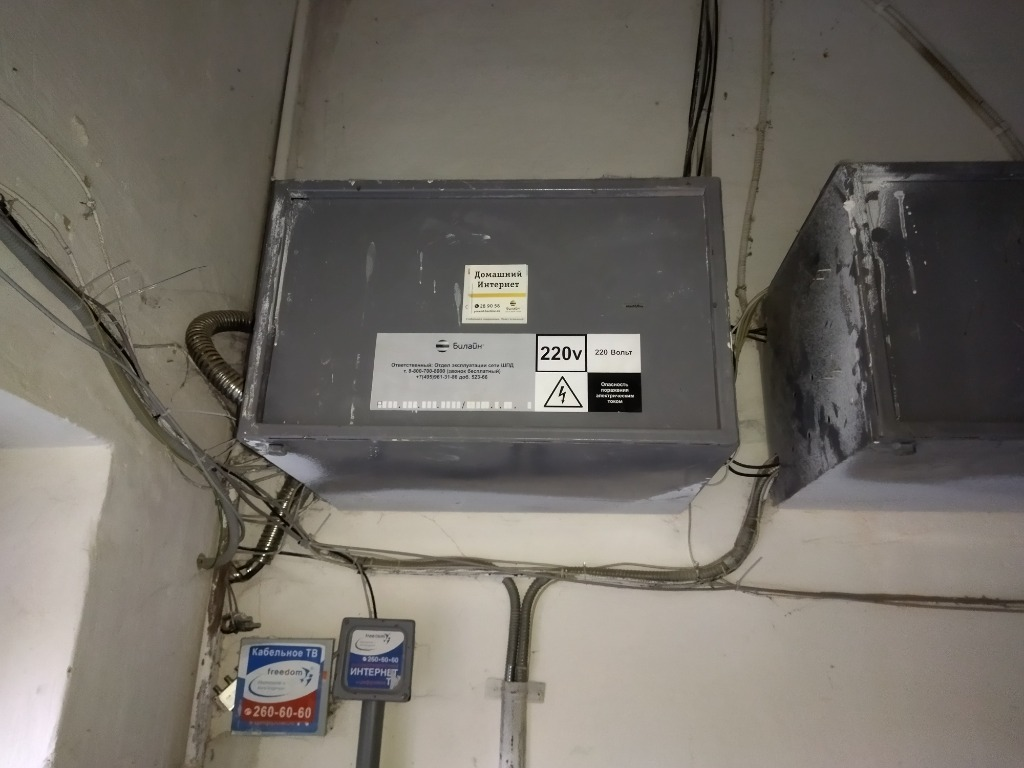e2-6u: (225, 170, 746, 449)
